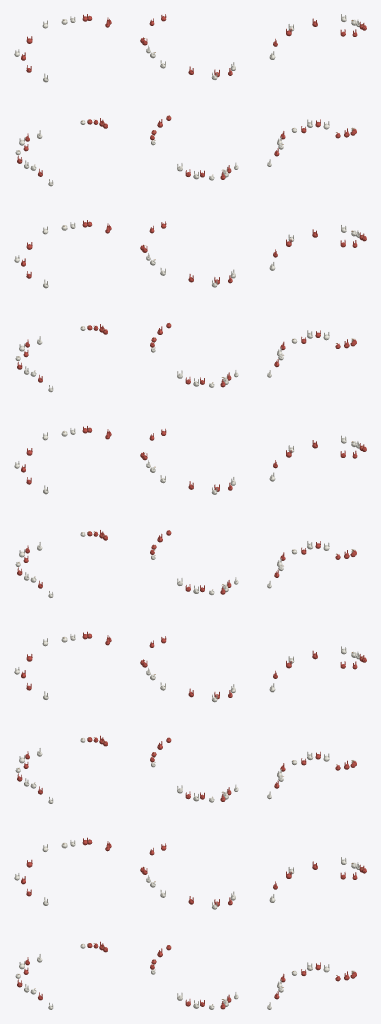
Rendered from Circle3Crowd2.obj.
3 views of the same model, side by side, from view 1: azimuth 30°, elevation 25°; view 2: azimuth 150°, elevation 25°; view 3: azimuth 330°, elevation 25° (orthographic). The views are drawn at different scales.
Visible parts, largest first — view 1: Circle3Crowd2; view 2: Circle3Crowd2; view 3: Circle3Crowd2.
Boxes of the visible parts, box(x1,y1,x2,y2) form: Circle3Crowd2: box(14, 14, 111, 1009); Circle3Crowd2: box(140, 14, 238, 1009); Circle3Crowd2: box(267, 14, 366, 1009).
Size of the model in its own units: 29.97 by 329 by 25.65.
Materials: 1 (1 with a texture image).
